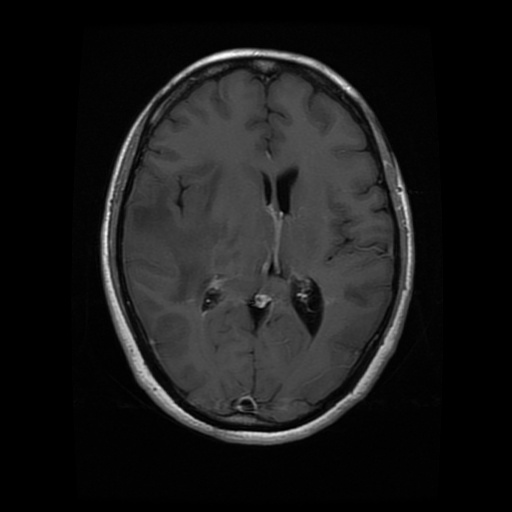glioma: (132, 160, 232, 300)
